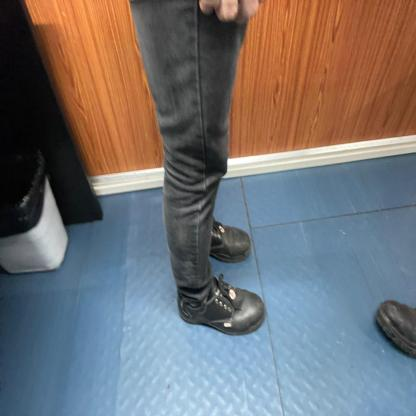bota: (178, 274, 266, 337), (209, 215, 252, 265)
